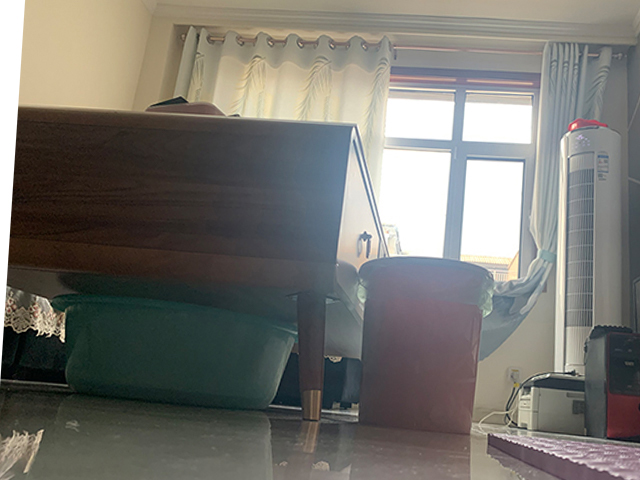table: (9, 105, 389, 421)
trashcan: (355, 254, 492, 434)
wire: (480, 370, 527, 431)
